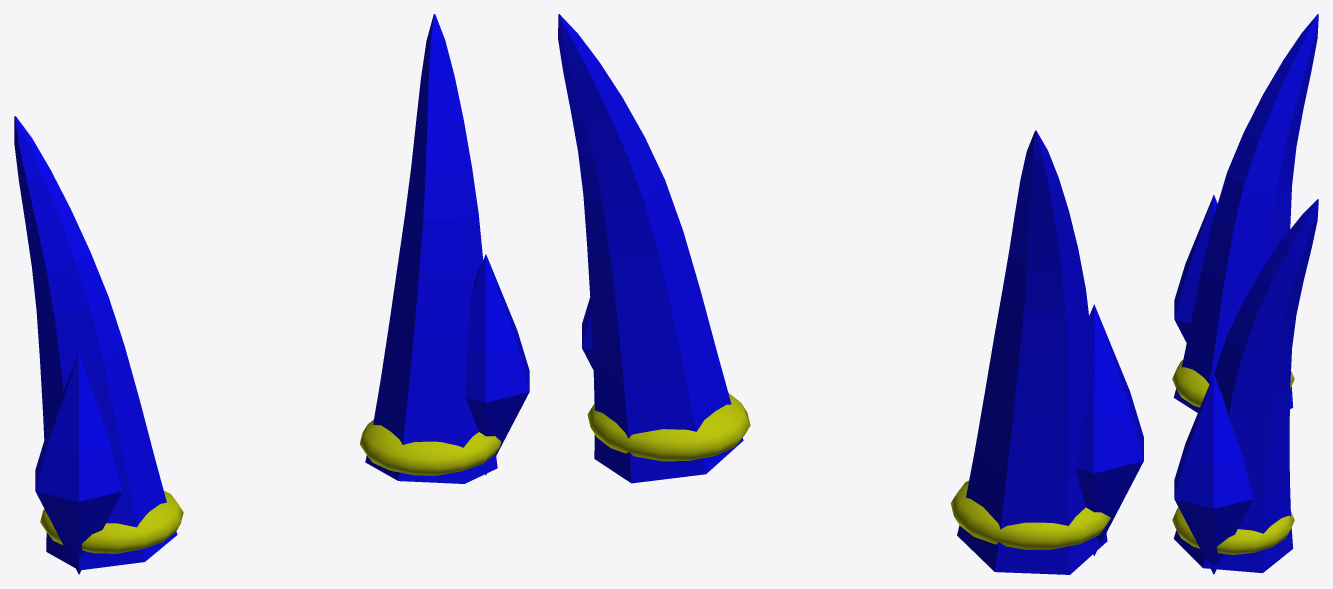
File: GXR_HORNS_05_CRYSTAL.glb
The picture shows the model from 3 angles, left to right: view 1: azimuth 30°, elevation 25°; view 2: azimuth 150°, elevation 25°; view 3: azimuth 270°, elevation 25°; orthographic projection. The views are drawn at different scales.
Parts seen in each view (by area): view 1: Mesh_Crystal_L, Mesh_Crystal_R, Mesh_Crystal_seed_R, Mesh_Crystal_seed_L, Mesh_Keratin_Seat_L.004, Mesh_Keratin_Seat_R.004; view 2: Mesh_Crystal_L, Mesh_Crystal_R, Mesh_Crystal_seed_R, Mesh_Keratin_Seat_L.004, Mesh_Keratin_Seat_R.004; view 3: Mesh_Crystal_L, Mesh_Crystal_R, Mesh_Crystal_seed_L, Mesh_Crystal_seed_R, Mesh_Keratin_Seat_L.004, Mesh_Keratin_Seat_R.004.
Part boxes in pixels (x1,y1,x2,y2): Mesh_Crystal_L: [365, 14, 497, 483]; Mesh_Crystal_R: [14, 116, 177, 570]; Mesh_Crystal_seed_R: [35, 353, 122, 574]; Mesh_Crystal_seed_L: [465, 254, 529, 475]; Mesh_Keratin_Seat_L.004: [360, 419, 501, 475]; Mesh_Keratin_Seat_R.004: [40, 491, 183, 553]; Mesh_Crystal_L: [558, 14, 743, 483]; Mesh_Crystal_R: [957, 130, 1107, 574]; Mesh_Crystal_seed_R: [1075, 304, 1143, 555]; Mesh_Keratin_Seat_L.004: [587, 393, 750, 461]; Mesh_Keratin_Seat_R.004: [950, 480, 1110, 549]; Mesh_Crystal_L: [1173, 199, 1318, 573]; Mesh_Crystal_R: [1173, 14, 1318, 412]; Mesh_Crystal_seed_L: [1174, 374, 1253, 574]; Mesh_Crystal_seed_R: [1174, 194, 1217, 342]; Mesh_Keratin_Seat_L.004: [1172, 507, 1294, 554]; Mesh_Keratin_Seat_R.004: [1172, 360, 1294, 407].
Size of the model in its own units: 0.396 by 0.3202 by 0.1125.
